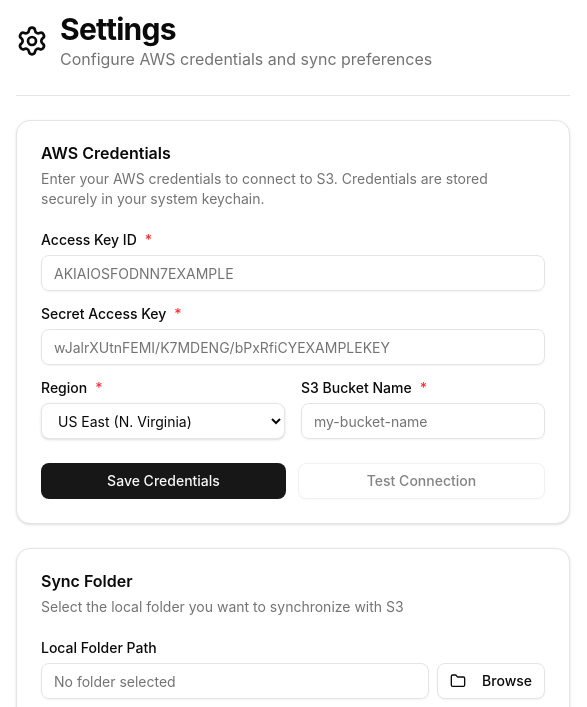
Test: SettingsPage › Form Validation › should show validation error when access key id is empty
Click the button "Save Credentials": (164, 481) [41,463,286,499]
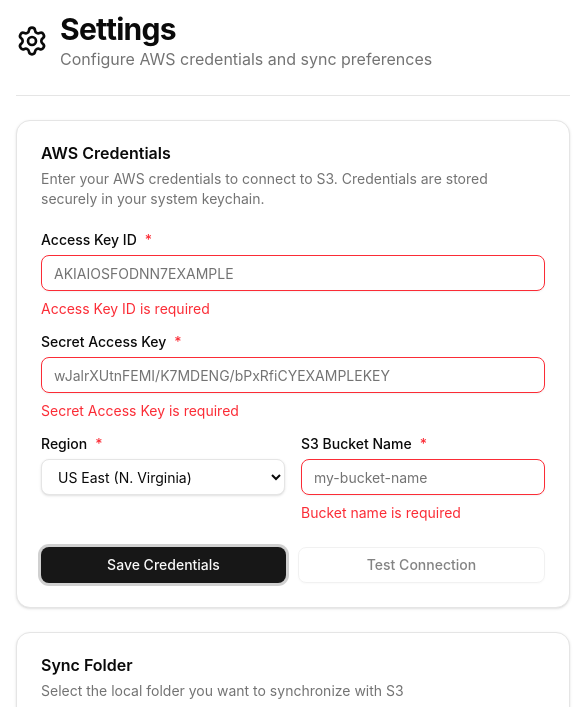
expect the text "Access Key ID is required" is shown: met, box [41,300,210,317]
